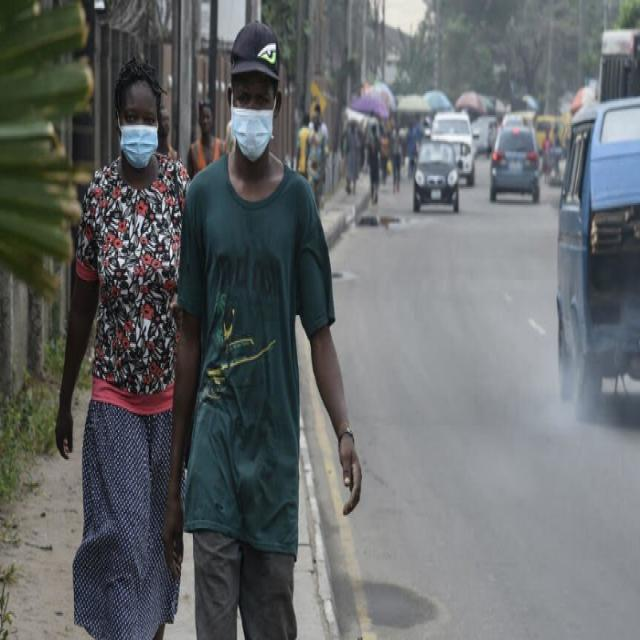hat: (228, 18, 280, 86)
